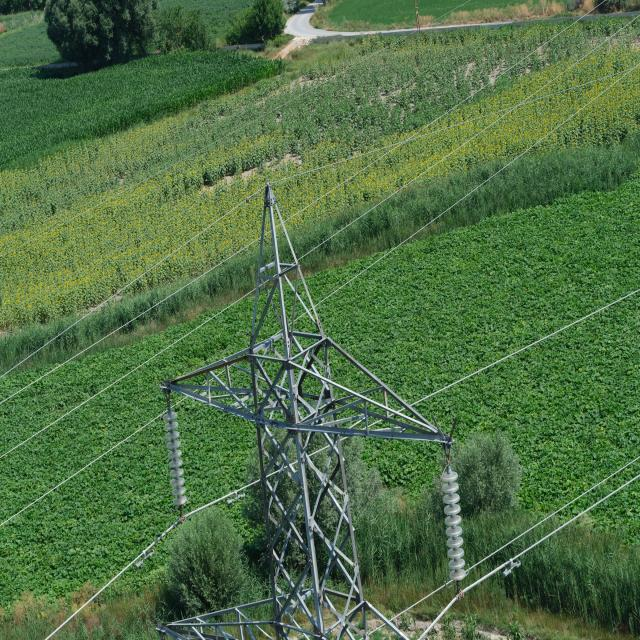voltage_line: (153, 192, 460, 640)
